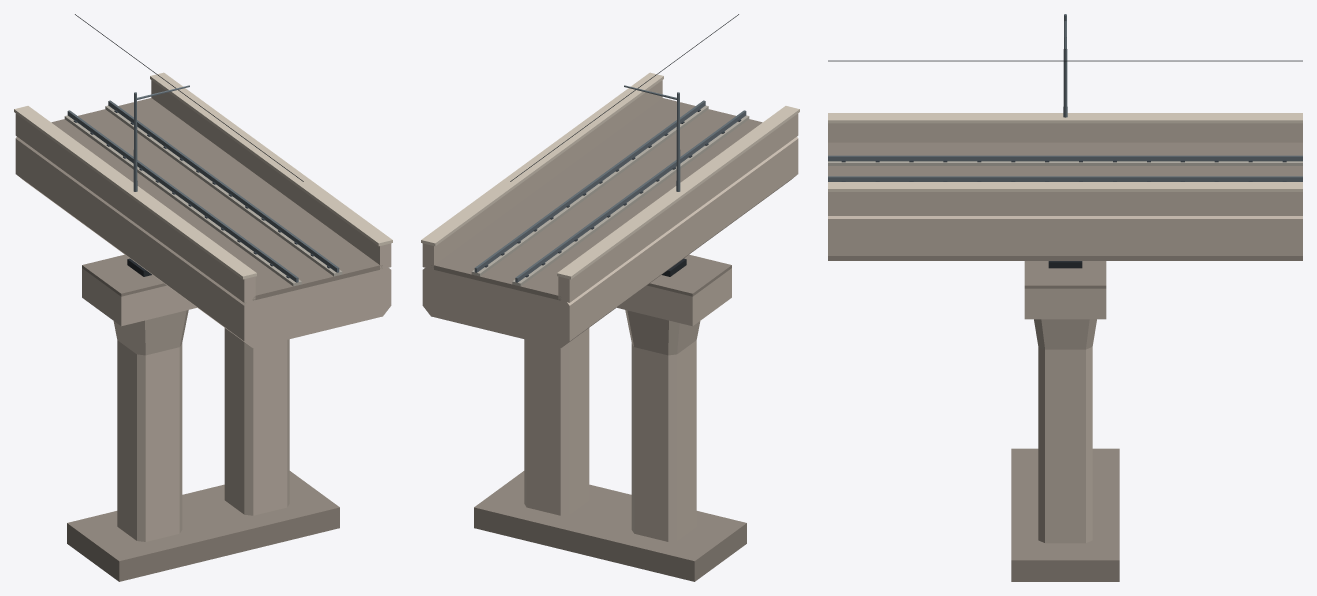
File: RAIL_08.obj
3 renders of one model, left to right at view 1: azimuth 30°, elevation 25°; view 2: azimuth 150°, elevation 25°; view 3: azimuth 270°, elevation 25°, orthographic. The views are drawn at different scales.
Parts seen in each view (by area): view 1: columns, guideway_slab, parapets, guideway, footing, crossbeam, guideway_rails, sleeper_strip, catenary_mast; view 2: columns, guideway_slab, parapets, guideway, footing, crossbeam, guideway_rails, sleeper_strip, catenary_mast; view 3: parapets, guideway, columns, guideway_slab, footing, guideway_rails, crossbeam, sleeper_strip, wire.
Boxes of the visible parts, x1,y1,x2,y2 form: columns: (113, 310, 289, 541); guideway_slab: (51, 98, 382, 300); parapets: (14, 72, 392, 302); guideway: (15, 137, 391, 347); footing: (67, 471, 339, 581); crossbeam: (82, 254, 196, 326); guideway_rails: (67, 100, 339, 282); sleeper_strip: (64, 105, 342, 286); catenary_mast: (133, 85, 189, 191); columns: (524, 310, 700, 541); guideway_slab: (431, 98, 762, 300); parapets: (421, 72, 799, 302); guideway: (422, 137, 798, 347); footing: (474, 471, 746, 581); crossbeam: (617, 254, 731, 326); guideway_rails: (474, 100, 746, 282); sleeper_strip: (471, 105, 749, 286); catenary_mast: (624, 85, 680, 191); parapets: (828, 113, 1302, 215); guideway: (828, 216, 1302, 260); columns: (1034, 319, 1096, 543); guideway_slab: (828, 142, 1302, 176); footing: (1011, 448, 1119, 581); guideway_rails: (828, 155, 1302, 181); crossbeam: (1024, 261, 1106, 319); sleeper_strip: (828, 161, 1302, 165); wire: (828, 60, 1302, 61).
Bounding box in the file's own units: 7.8 × 15.54 × 14.
